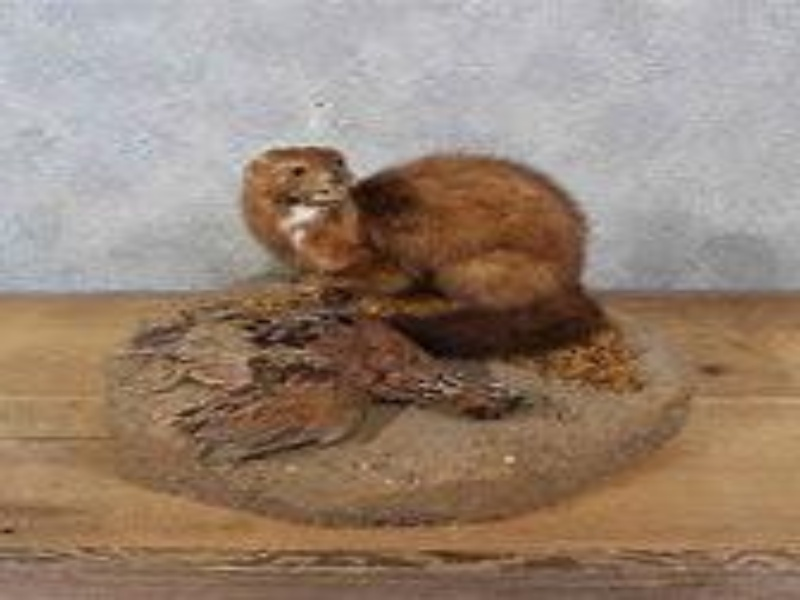minkish: (235, 143, 596, 318)
